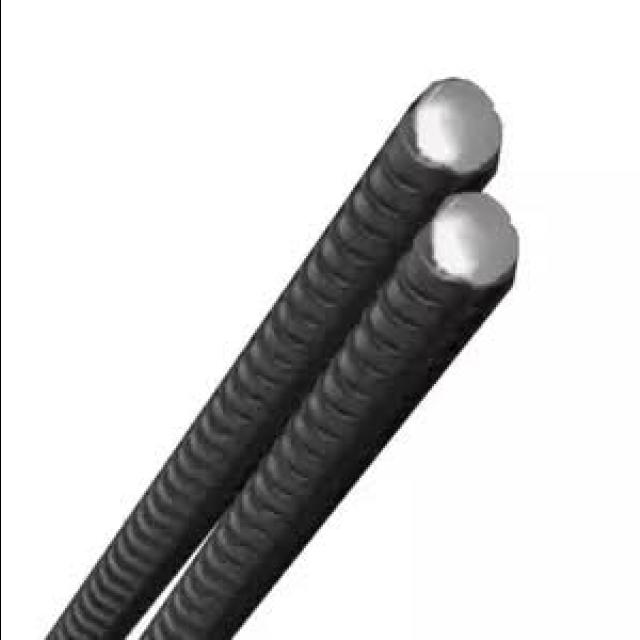Rebar: (412, 74, 516, 175), (414, 199, 520, 297)
